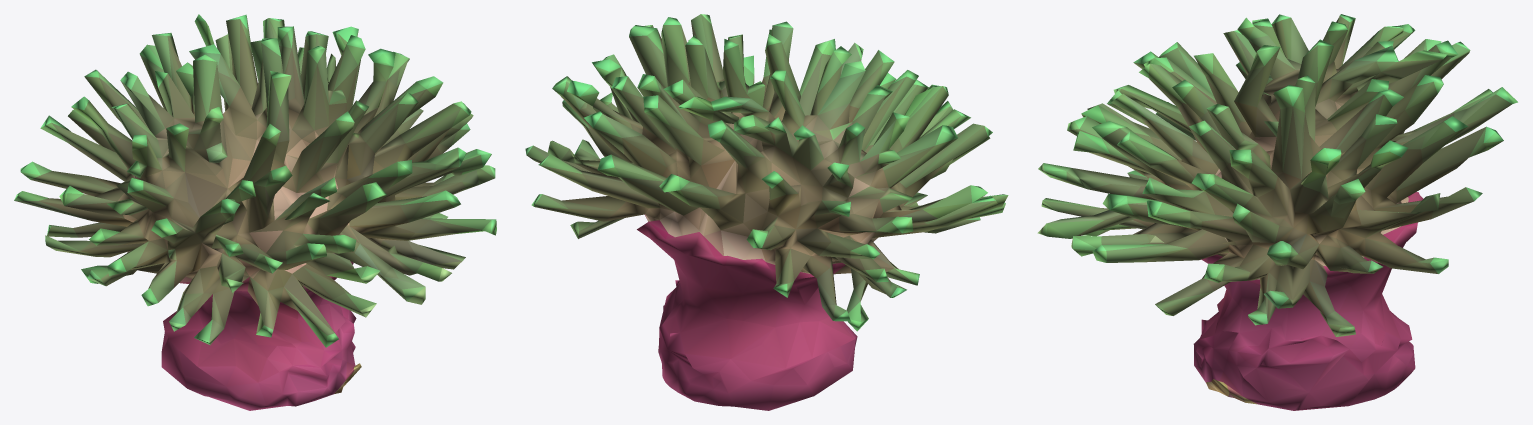
File: anemone.glb
3 renders of one model, left to right at view 1: azimuth 30°, elevation 25°; view 2: azimuth 150°, elevation 25°; view 3: azimuth 270°, elevation 25°, orthographic. The views are drawn at different scales.
Visible parts, largest first — view 1: geometry_0; view 2: geometry_0; view 3: geometry_0.
Boxes of the visible parts, bbox=[...] form: geometry_0: bbox=[14, 14, 496, 410]; geometry_0: bbox=[525, 14, 1008, 410]; geometry_0: bbox=[1037, 14, 1517, 410].
Bounding box in the file's own units: 0.09 × 0.07 × 0.09.
Materials: 1 (1 with a texture image).
